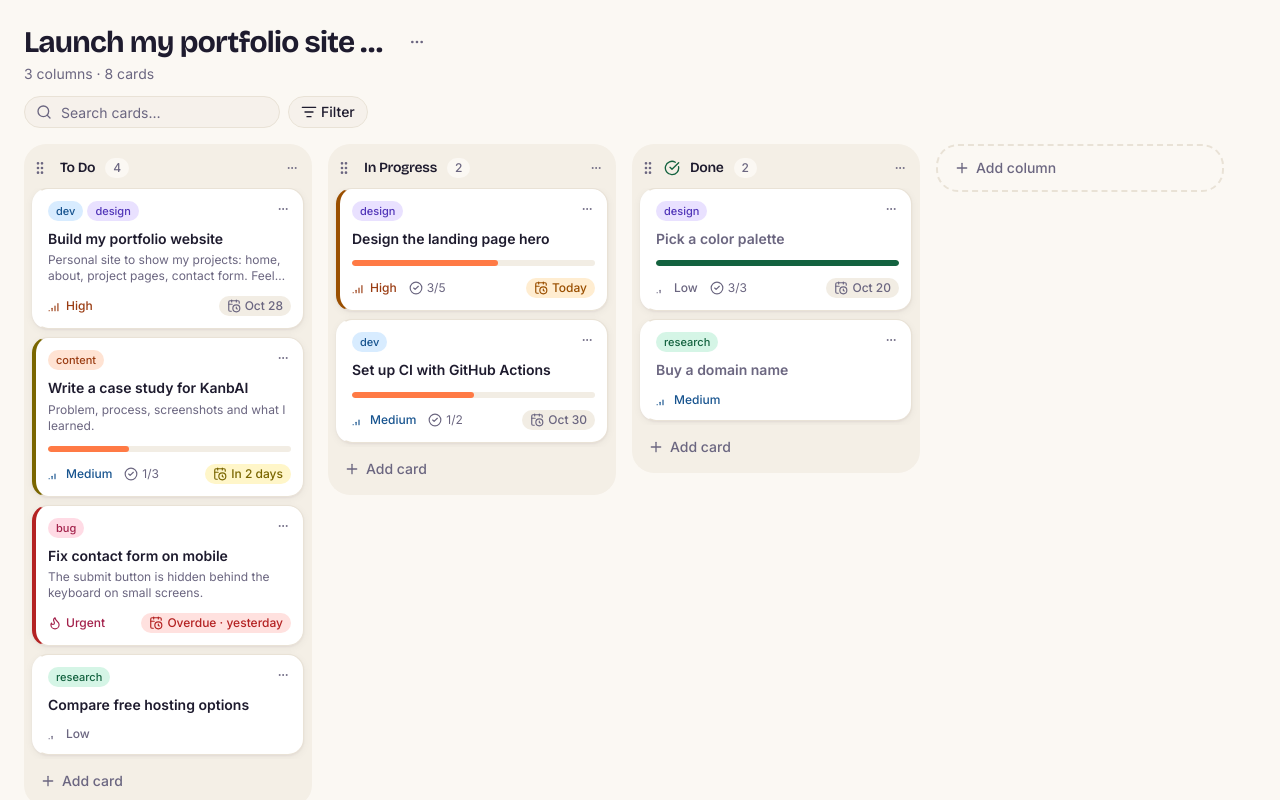
Test: card labels › rejects a duplicate label name
The image size is (1280, 800).
Click the heading "Buy a domain name". click: coordinates (722, 370)
box: [656,361,788,378]
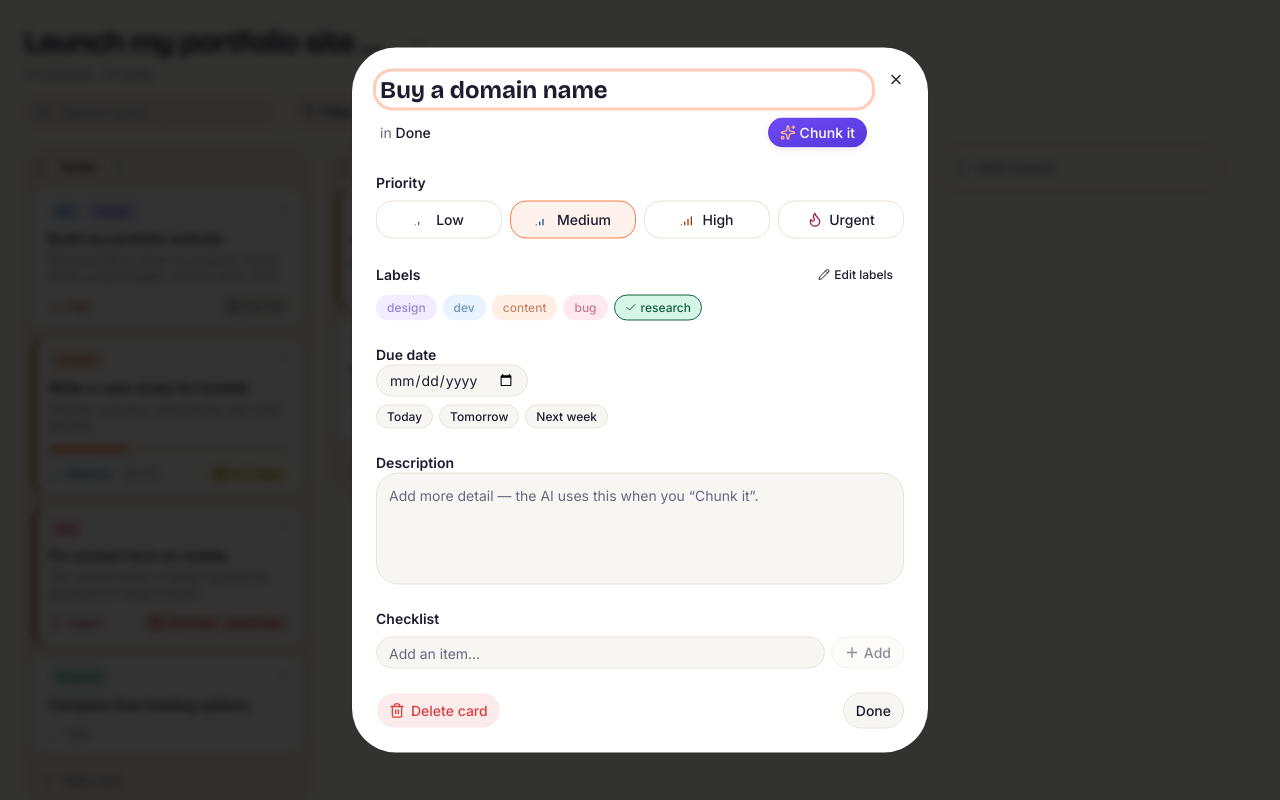
Click the button "Edit labels". click: coordinates (856, 274)
box: [807,262,904,286]
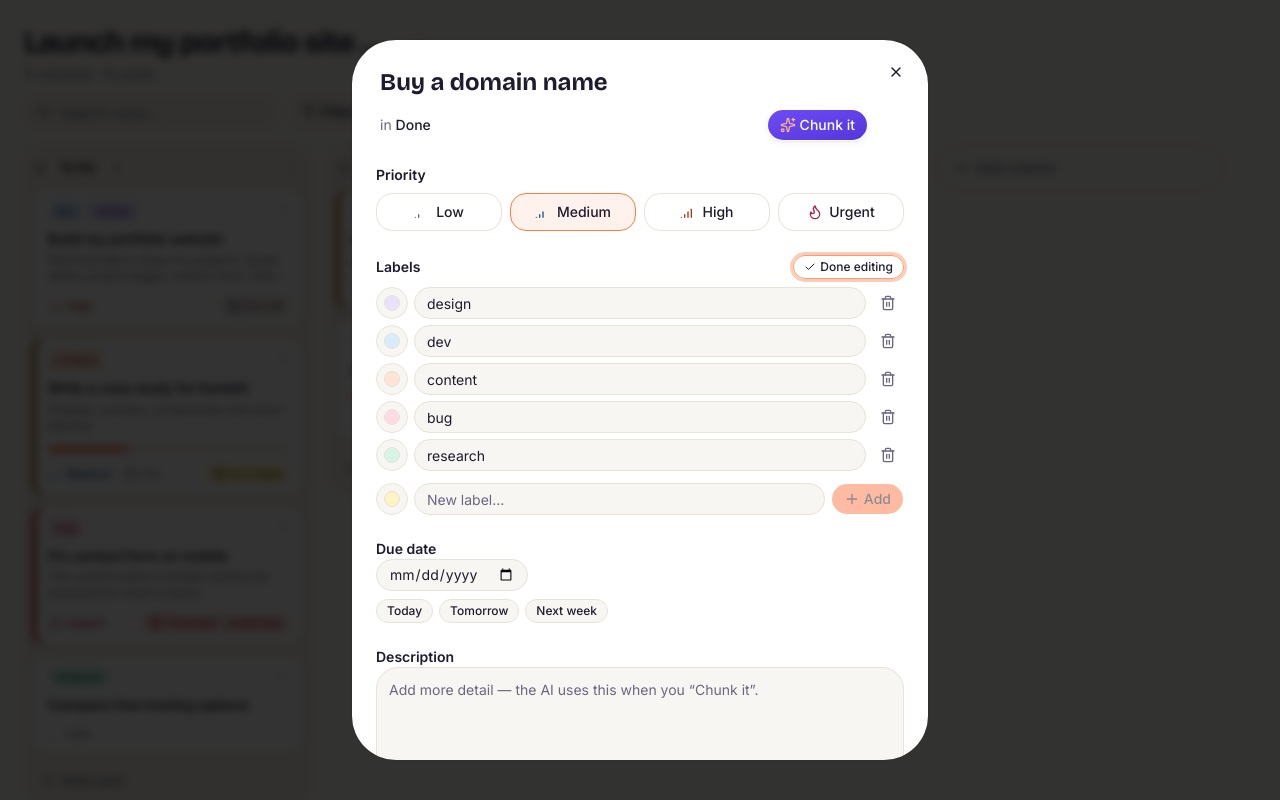
Type "BUG" into the field named "New label name". click: coordinates (619, 499)
box: [414,483,825,515]
Then press Enter
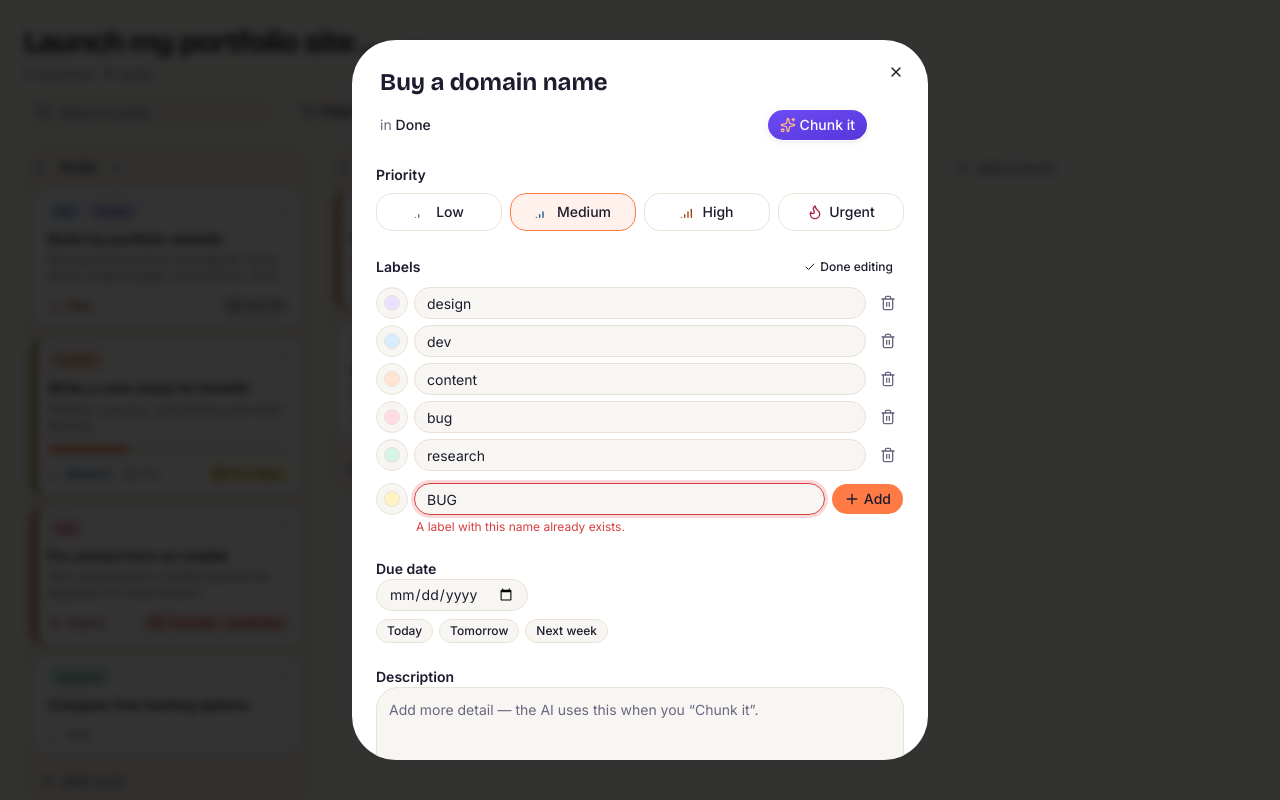
expect the text "A label with this name already exists." is shown: met, box [416,519,625,534]
